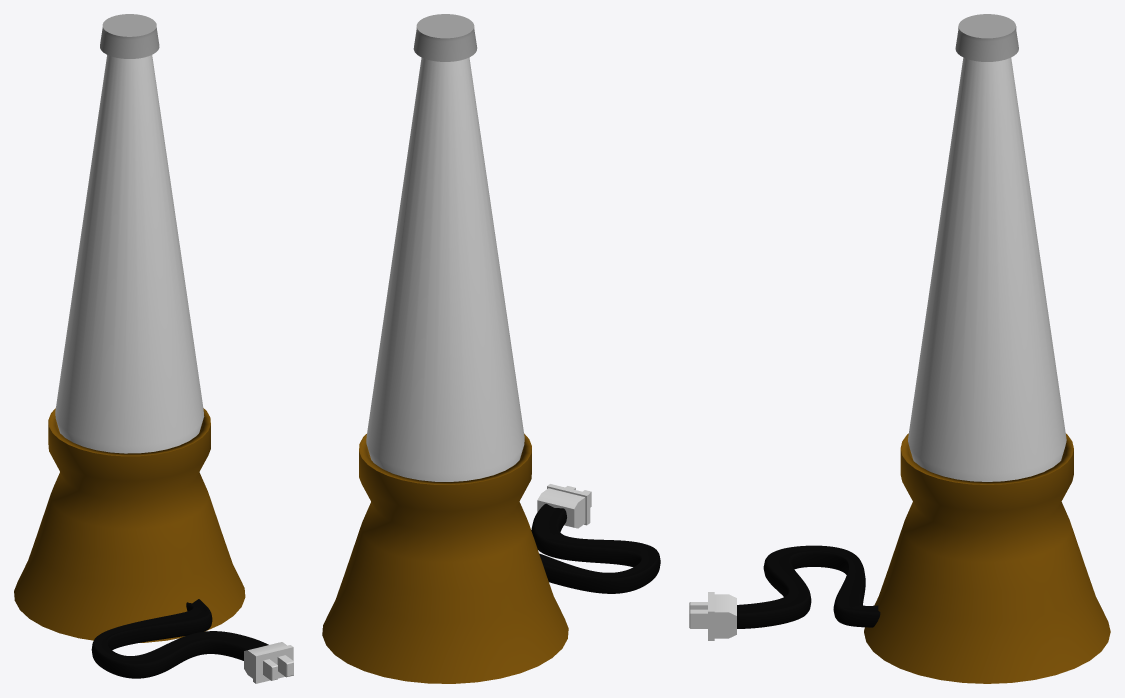
The model's file is lavalamp3.fbx.
3 views of the same model, side by side, from view 1: azimuth 30°, elevation 25°; view 2: azimuth 150°, elevation 25°; view 3: azimuth 270°, elevation 25° (orthographic). The views are drawn at different scales.
Parts seen in each view (by area): view 1: Brooke_Modeling_Ckpt_01:lavalamp_0001:glass, Brooke_Modeling_Ckpt_01:lavalamp_0001:base, nurbsToPoly1, Brooke_Modeling_Ckpt_01:lavalamp_0001:cap, Brooke_Modeling_Ckpt_01:lavalamp_0001:plug; view 2: Brooke_Modeling_Ckpt_01:lavalamp_0001:glass, Brooke_Modeling_Ckpt_01:lavalamp_0001:base, nurbsToPoly1, Brooke_Modeling_Ckpt_01:lavalamp_0001:cap, Brooke_Modeling_Ckpt_01:lavalamp_0001:plug; view 3: Brooke_Modeling_Ckpt_01:lavalamp_0001:glass, Brooke_Modeling_Ckpt_01:lavalamp_0001:base, nurbsToPoly1, Brooke_Modeling_Ckpt_01:lavalamp_0001:cap, Brooke_Modeling_Ckpt_01:lavalamp_0001:plug.
Boxes of the visible parts, x1=… form: Brooke_Modeling_Ckpt_01:lavalamp_0001:glass: x1=55, y1=55, x2=204, y2=453; Brooke_Modeling_Ckpt_01:lavalamp_0001:base: x1=14, y1=408, x2=245, y2=642; nurbsToPoly1: x1=91, y1=599, x2=268, y2=678; Brooke_Modeling_Ckpt_01:lavalamp_0001:cap: x1=100, y1=14, x2=159, y2=58; Brooke_Modeling_Ckpt_01:lavalamp_0001:plug: x1=244, y1=642, x2=293, y2=683; Brooke_Modeling_Ckpt_01:lavalamp_0001:glass: x1=366, y1=57, x2=524, y2=481; Brooke_Modeling_Ckpt_01:lavalamp_0001:base: x1=322, y1=433, x2=568, y2=683; nurbsToPoly1: x1=531, y1=503, x2=660, y2=593; Brooke_Modeling_Ckpt_01:lavalamp_0001:cap: x1=413, y1=14, x2=477, y2=61; Brooke_Modeling_Ckpt_01:lavalamp_0001:plug: x1=537, y1=484, x2=591, y2=528; Brooke_Modeling_Ckpt_01:lavalamp_0001:glass: x1=908, y1=57, x2=1066, y2=481; Brooke_Modeling_Ckpt_01:lavalamp_0001:base: x1=864, y1=433, x2=1110, y2=683; nurbsToPoly1: x1=737, y1=545, x2=880, y2=628; Brooke_Modeling_Ckpt_01:lavalamp_0001:cap: x1=955, y1=14, x2=1018, y2=61; Brooke_Modeling_Ckpt_01:lavalamp_0001:plug: x1=689, y1=592, x2=736, y2=640.
Size of the model in its own units: 9.02 by 23.12 by 14.58.
